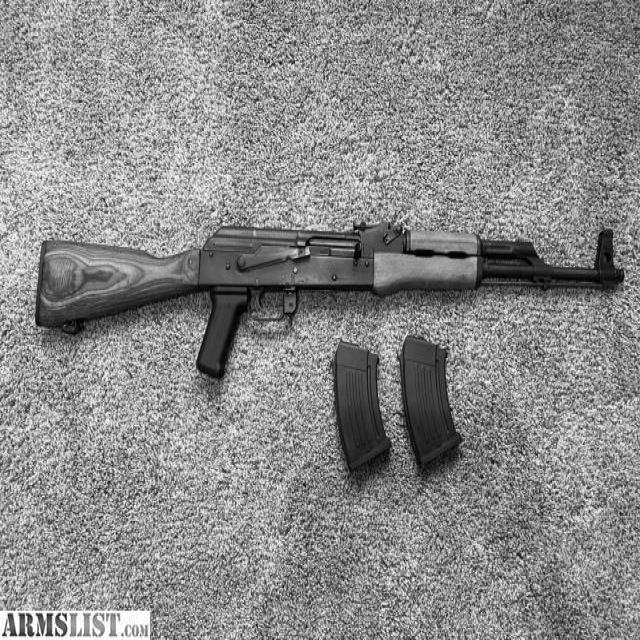gun: (35, 212, 619, 473)
